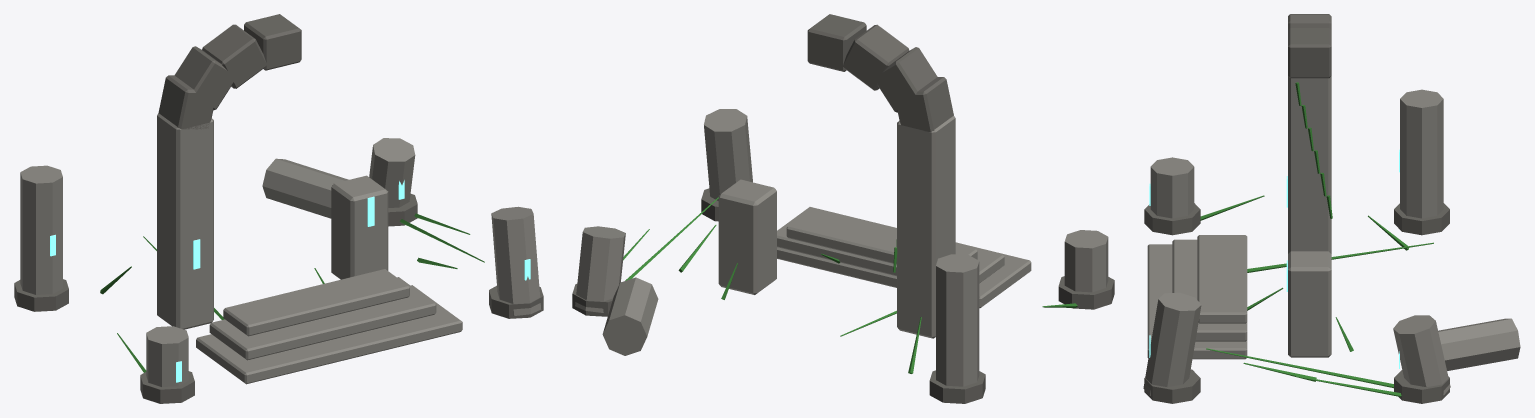
File: for_ruins_v01.glb
3 renders of one model, left to right at view 1: azimuth 30°, elevation 25°; view 2: azimuth 150°, elevation 25°; view 3: azimuth 270°, elevation 25°, orthographic. The views are drawn at different scales.
Parts seen in each view (by area): view 1: ruins; view 2: ruins; view 3: ruins.
Part boxes in pixels (x1,y1,x2,y2): ruins: [14, 14, 543, 403]; ruins: [572, 14, 1114, 403]; ruins: [1143, 14, 1520, 403].
Size of the model in its own units: 7.3 by 4.87 by 6.05.
